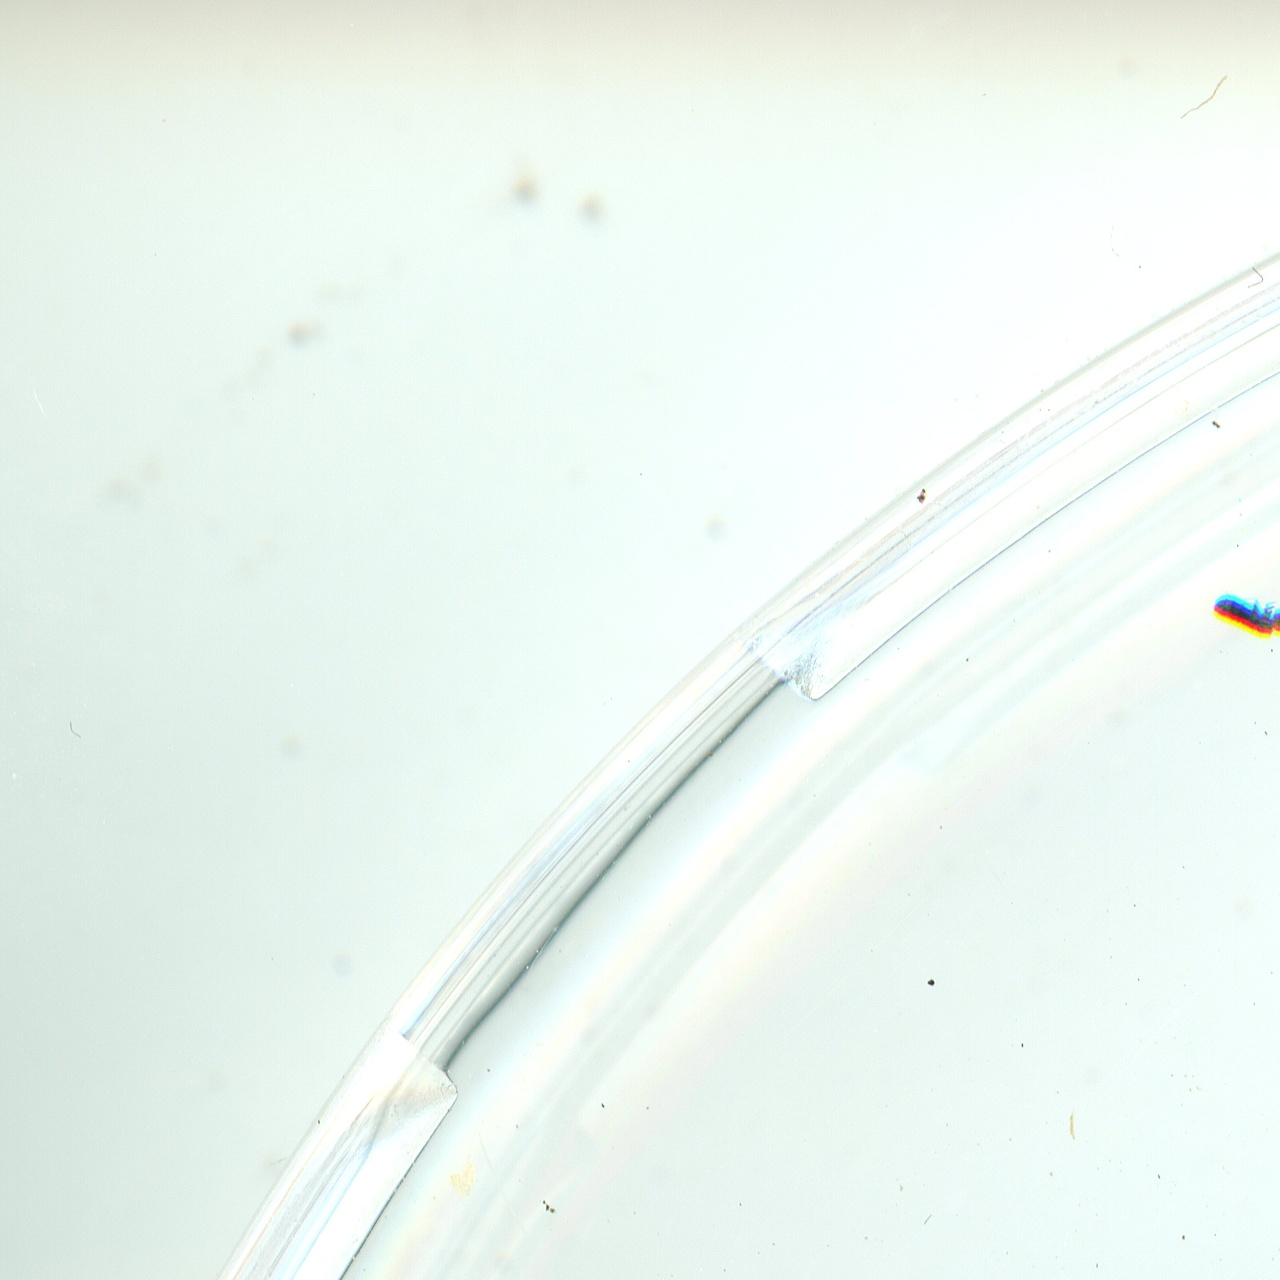arthropod: (1204, 584, 1280, 644)
